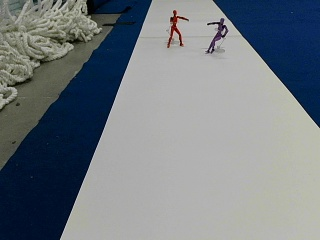pedestrian: (167, 9, 188, 47), (205, 17, 227, 53)
